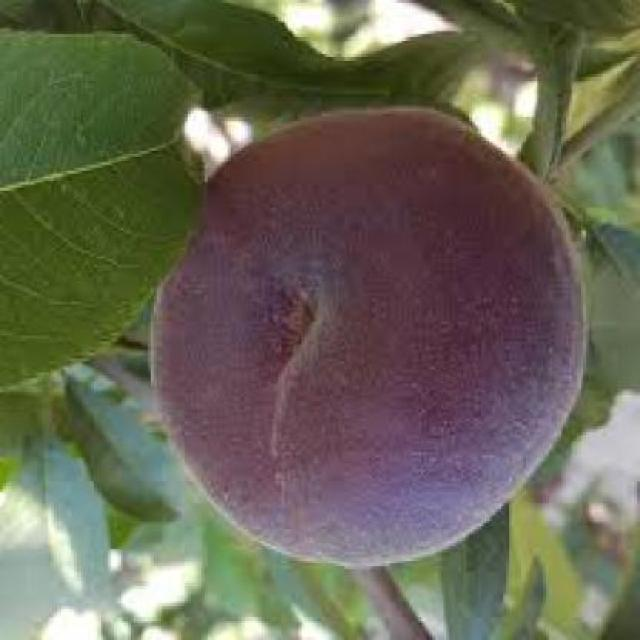BIODEGRADABLE: (157, 109, 585, 568), (0, 35, 200, 380), (0, 0, 475, 118)
